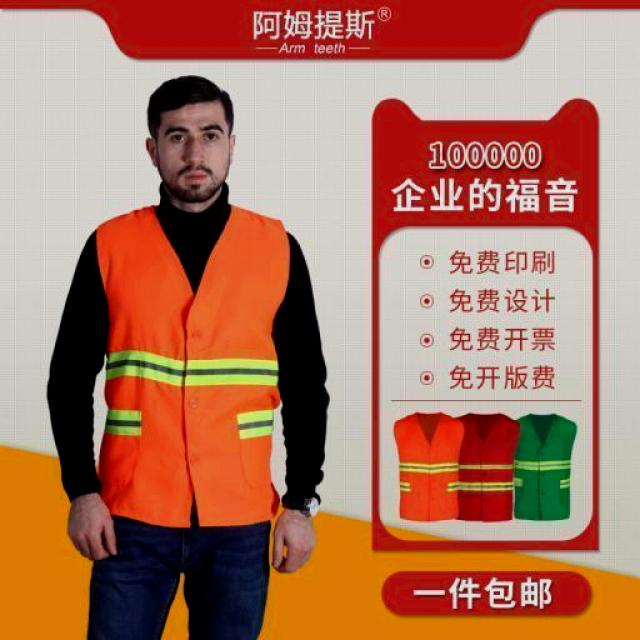face_nomask: (156, 117, 229, 195)
hand_noglove: (61, 494, 120, 564), (264, 504, 317, 577)
head_nohelmet: (139, 72, 242, 127)
person: (48, 69, 338, 640)
vest: (96, 202, 300, 526)
